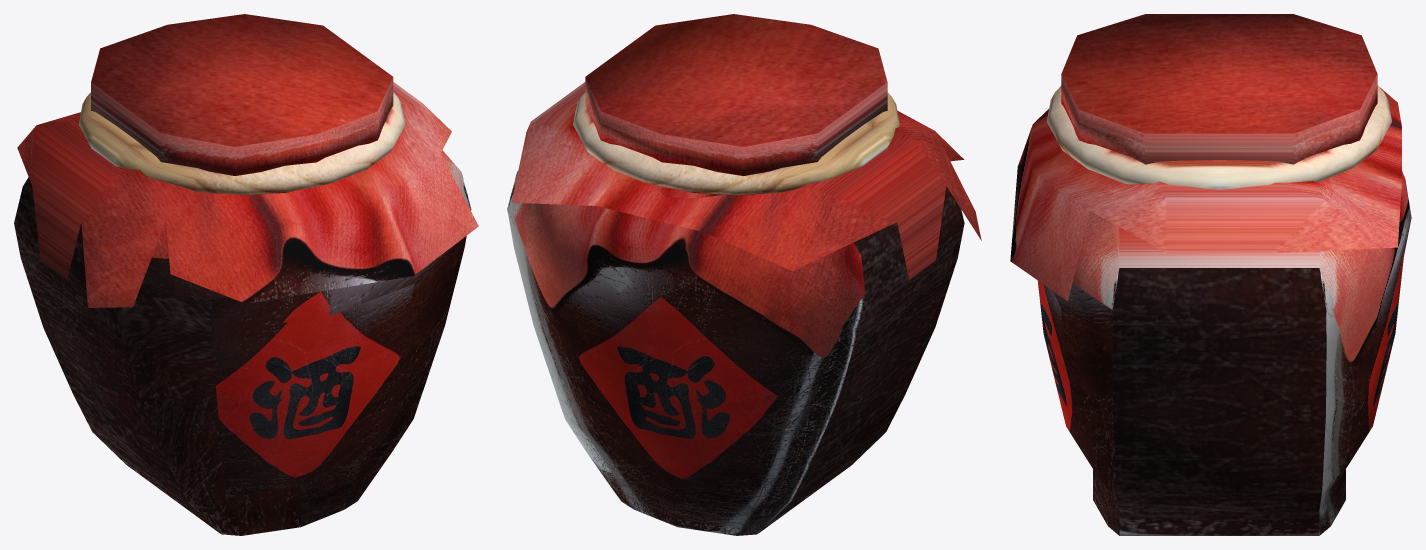
The model's file is Wine.fbx.
The picture shows the model from 3 angles, left to right: view 1: azimuth 30°, elevation 25°; view 2: azimuth 150°, elevation 25°; view 3: azimuth 270°, elevation 25°; orthographic projection. The views are drawn at different scales.
Parts seen in each view (by area): view 1: Jar; view 2: Jar; view 3: Jar.
Boxes of the visible parts, <box> form: Jar: <box>14,14,478,535</box>; Jar: <box>507,14,981,535</box>; Jar: <box>1010,14,1411,535</box>.
Bounding box in the file's own units: 234 × 235 × 200.
